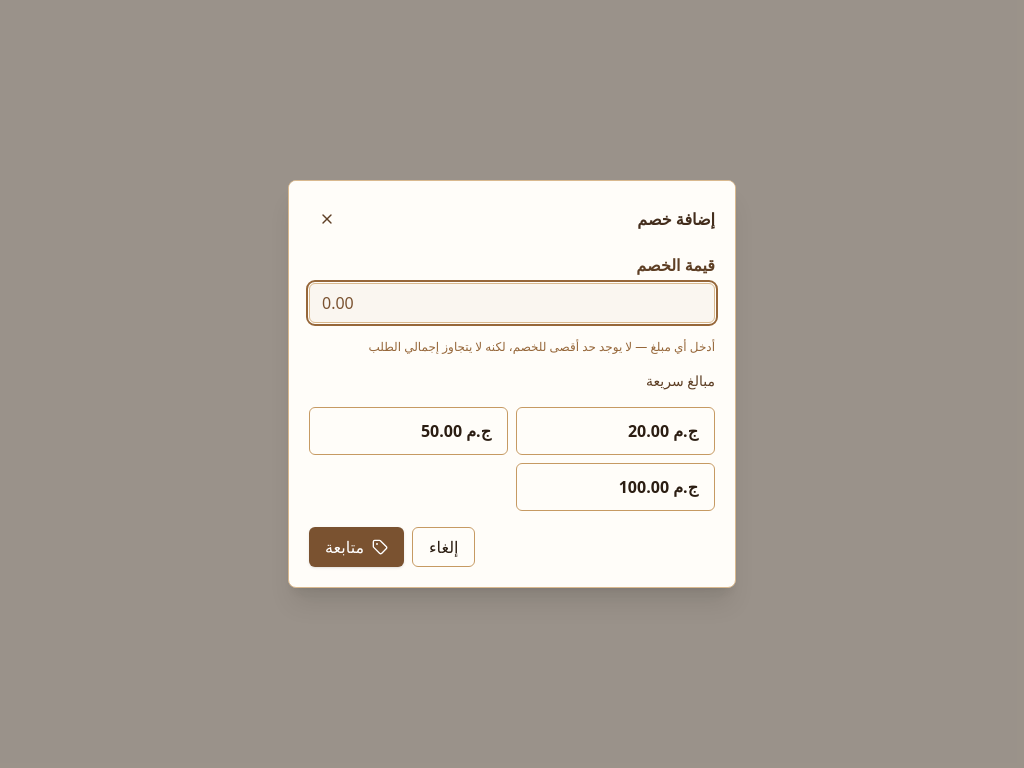
Test case: DiscountDialog › refuses an amount the invoice cannot carry, before asking for a PIN
Type "5000" into the field labelled "قيمة الخصم". click: {"x": 512, "y": 303}
box: [309,283,715,323]
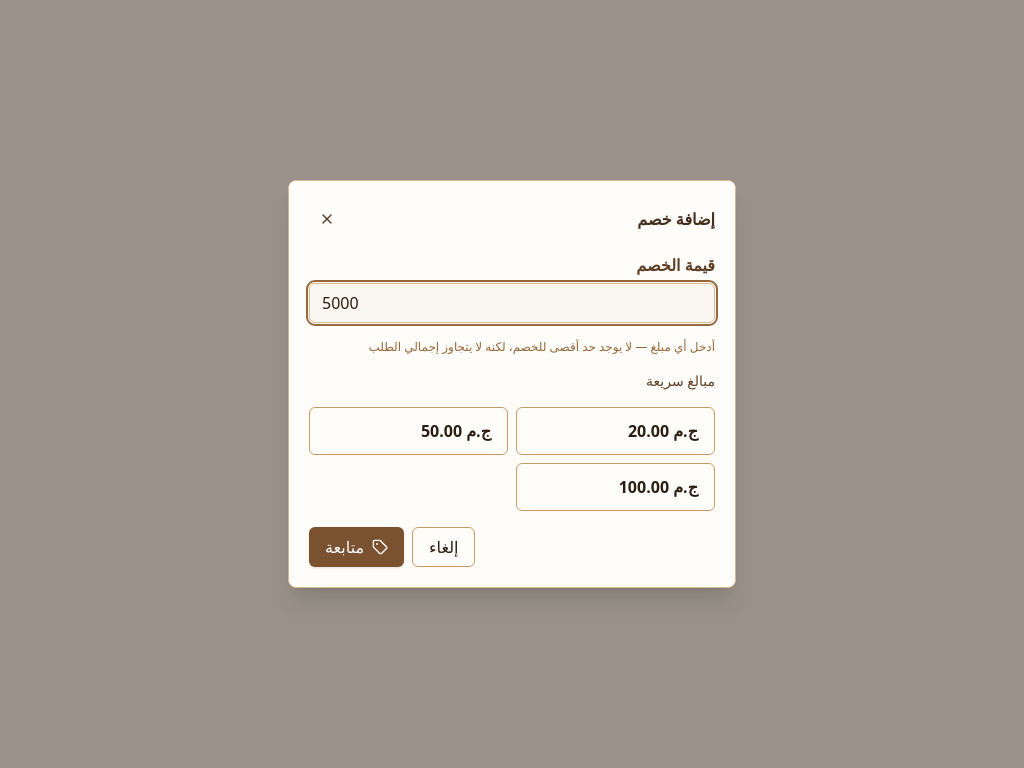
Click the button "متابعة". click: {"x": 356, "y": 547}
box: [309,527,404,567]
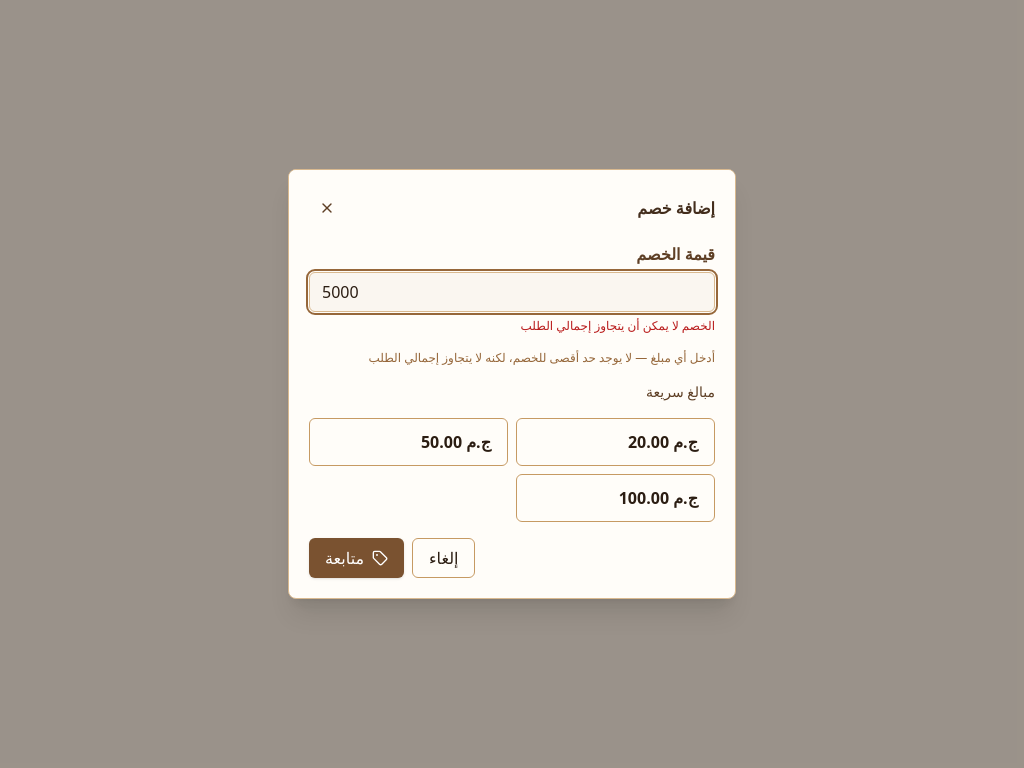
Now the message reads "الخصم لا يمكن أن يتجاوز إجمالي الطلب", box [521,317,715,334]
